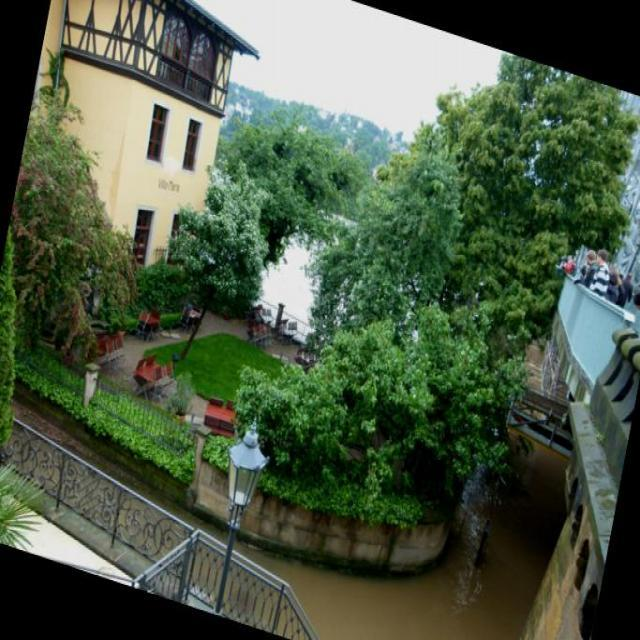flood: (283, 348, 578, 639)
